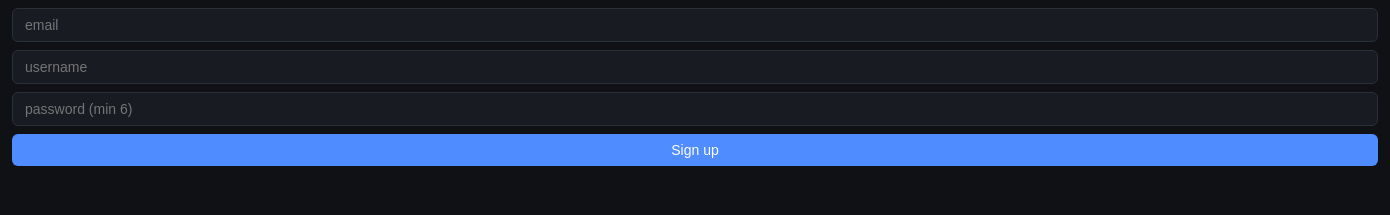
Test case: SignupForm › shows generic message when thrown value is not an Error
Type "a@x.com" into the field with placeholder "email". click: {"x": 695, "y": 25}
box: [12,8,1378,42]
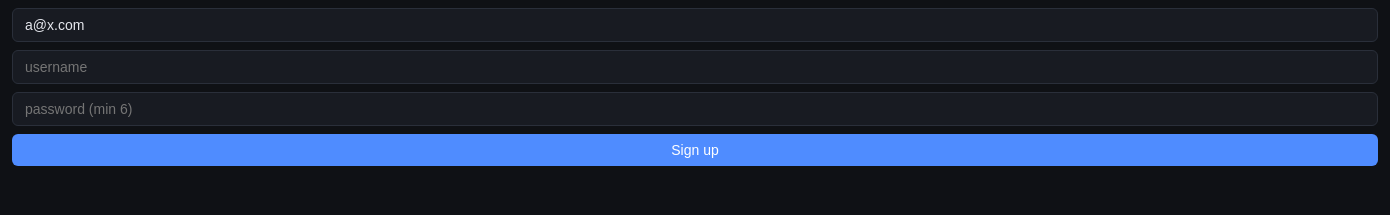
Type "alice" into the field with placeholder "username". click: {"x": 695, "y": 67}
box: [12,50,1378,84]
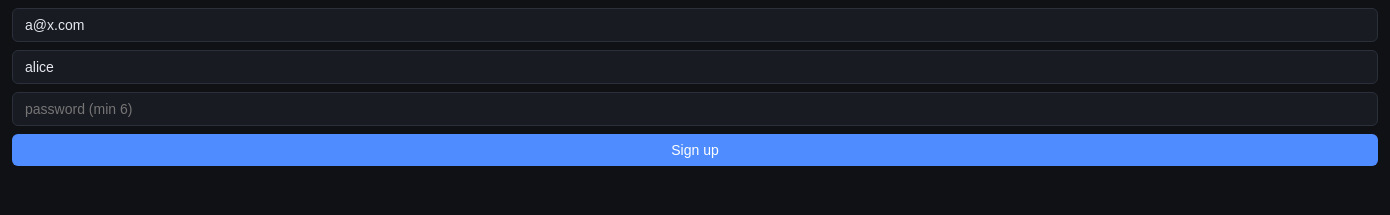
Type "secret1" into the password field with placeholder "password (min 6)". click: {"x": 695, "y": 109}
box: [12,92,1378,126]
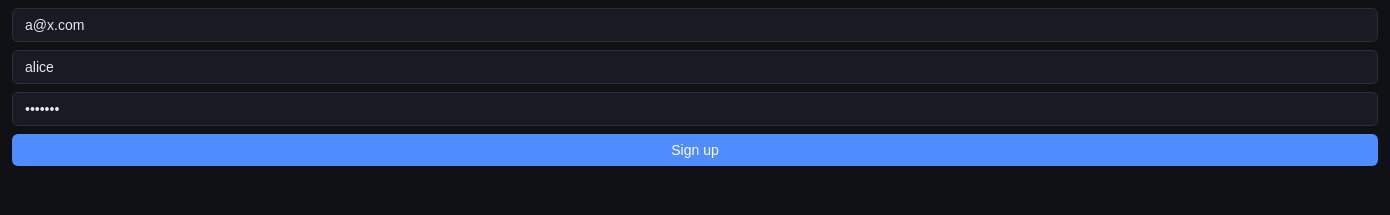
Click the button "Sign up". click: {"x": 695, "y": 150}
box: [12,134,1378,166]
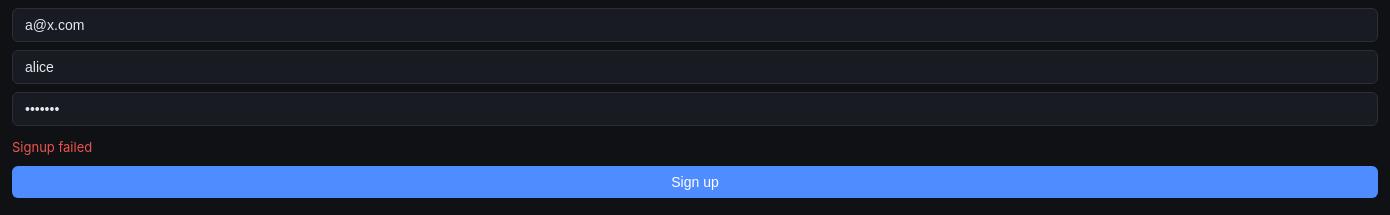
Expected: the text "Signup failed" is shown, [12,139,92,155]
